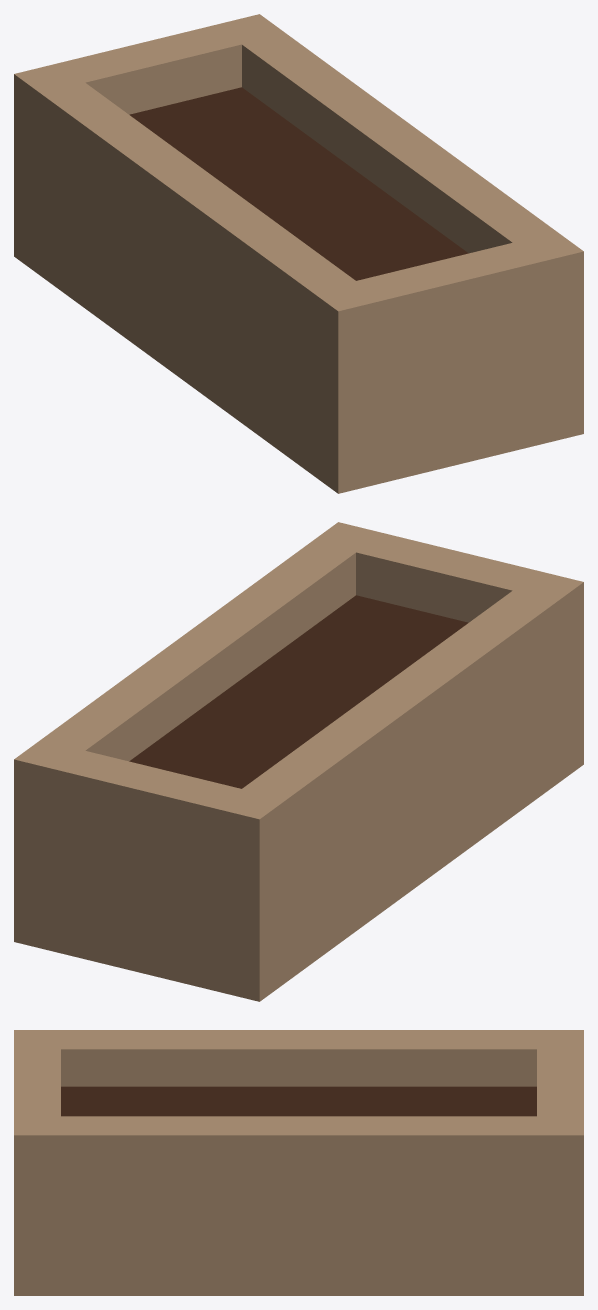
Rendered from flower_pot_wide.fbx.
3 renders of one model, top to bottom at view 1: azimuth 30°, elevation 25°; view 2: azimuth 150°, elevation 25°; view 3: azimuth 270°, elevation 25°, orthographic. The views are drawn at different scales.
Parts seen in each view (by area): view 1: flower_pot_wide; view 2: flower_pot_wide; view 3: flower_pot_wide.
Boxes of the visible parts, x1,y1,x2,y2 form: flower_pot_wide: (14, 14, 583, 493); flower_pot_wide: (14, 522, 583, 1001); flower_pot_wide: (14, 1030, 583, 1295).
Size of the model in its own units: 122 by 53.32 by 37.86.
